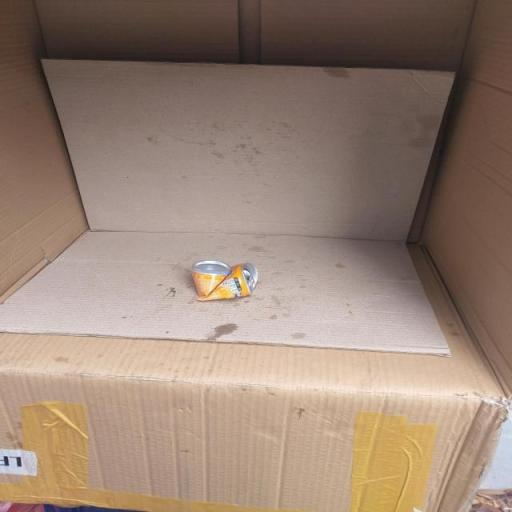metal: (165, 238, 278, 314)
